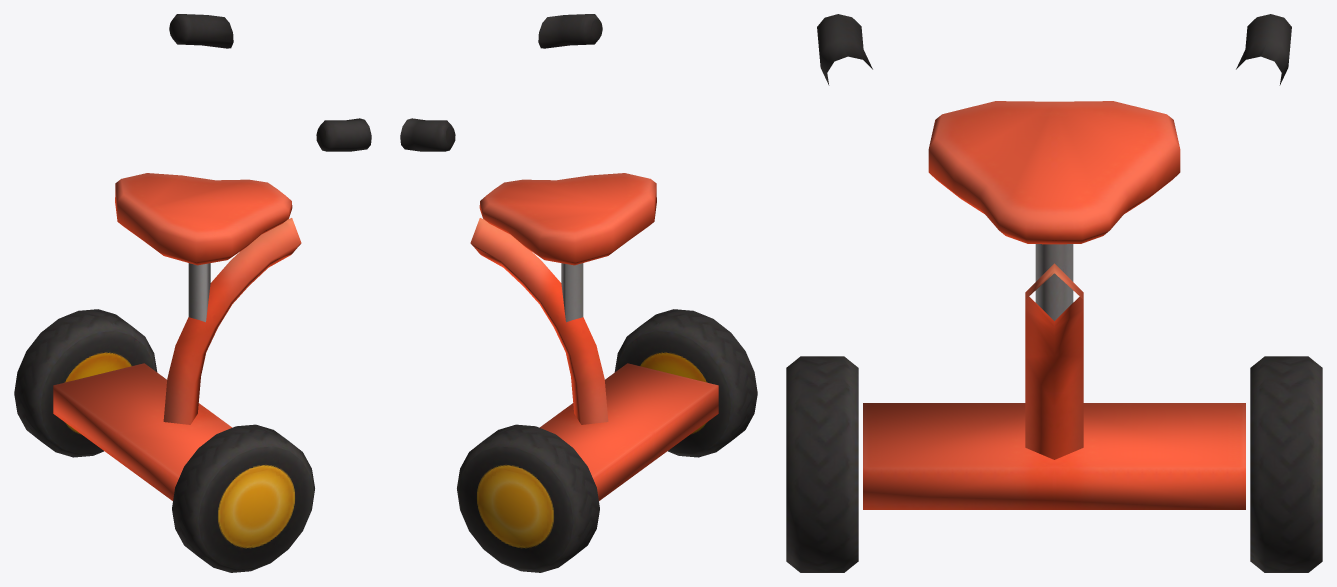
Rendered from bike_right.glb.
3 views of the same model, side by side, from view 1: azimuth 30°, elevation 25°; view 2: azimuth 150°, elevation 25°; view 3: azimuth 270°, elevation 25° (orthographic). The views are drawn at different scales.
Visible parts, largest first — view 1: bike_right; view 2: bike_right; view 3: bike_right.
Part boxes in pixels (x1,y1,x2,y2): bike_right: [14, 14, 371, 572]; bike_right: [400, 14, 757, 572]; bike_right: [786, 14, 1322, 572].
Bounding box in the file's own units: 0.5635 × 1.16 × 0.9156.
Materials: 1 (1 with a texture image).
